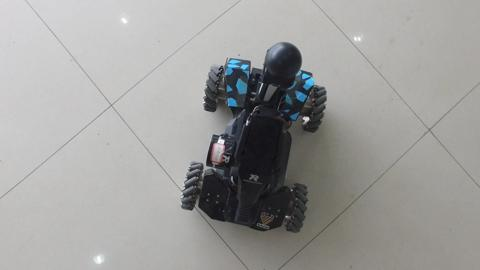chariot: (169, 37, 326, 228)
